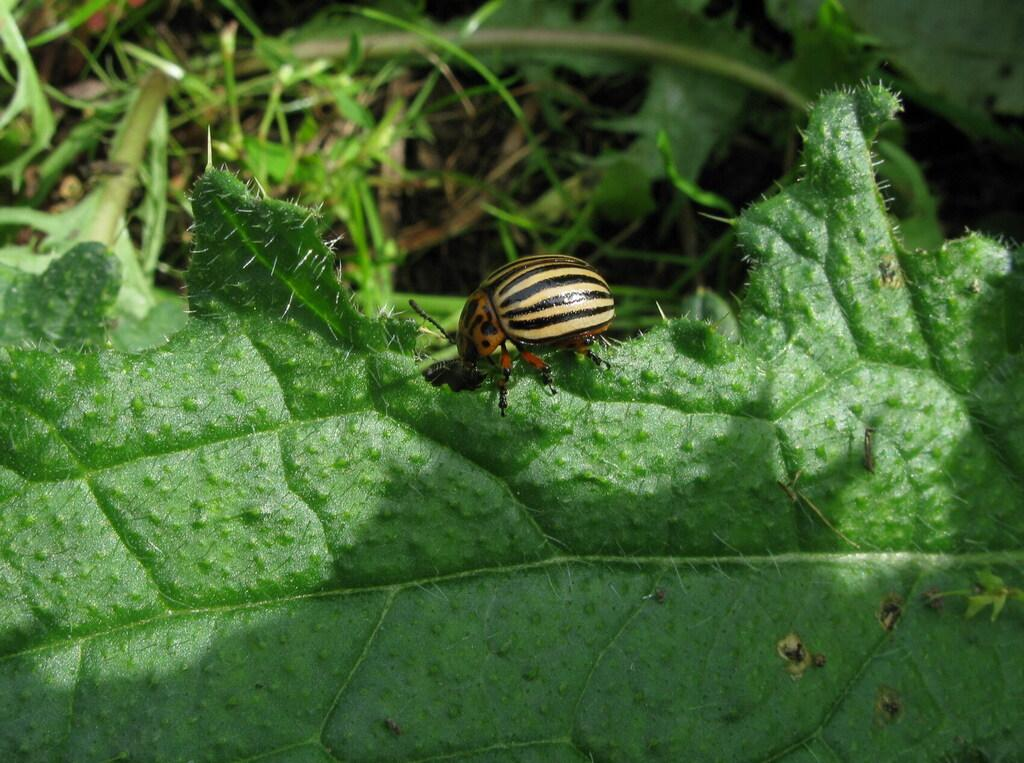potato_beetle: (385, 219, 639, 430)
